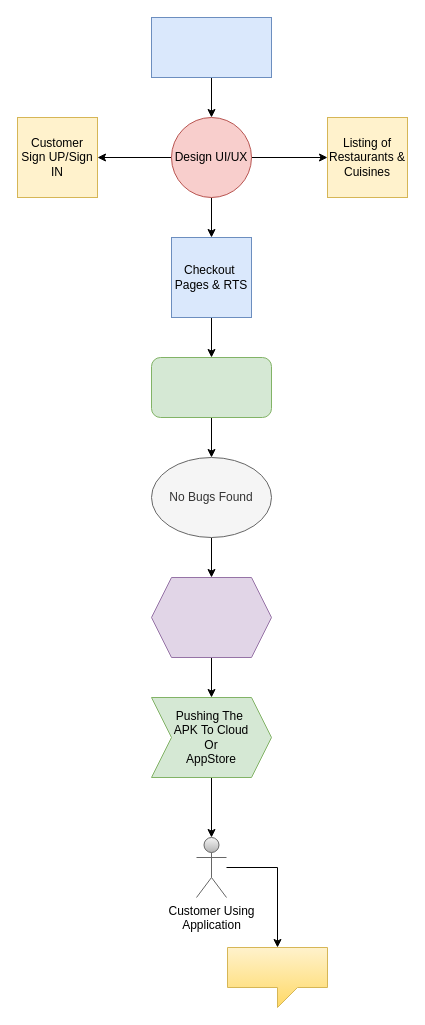
Some shapes in this 425 by 1025 pixel diagram are drawn without their labels. The box of each missing label's shape, as (x1, y1, x2, y2) in pixels:
Compiling into apk: (150, 356, 272, 418)
Home Foods: (150, 16, 272, 78)
No Feedback Recieved: (226, 946, 328, 1008)
Writing Permissions For Deployment: (150, 576, 272, 658)
